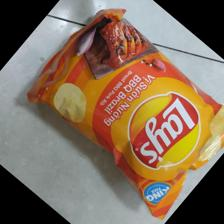Lays: (26, 7, 224, 219)
